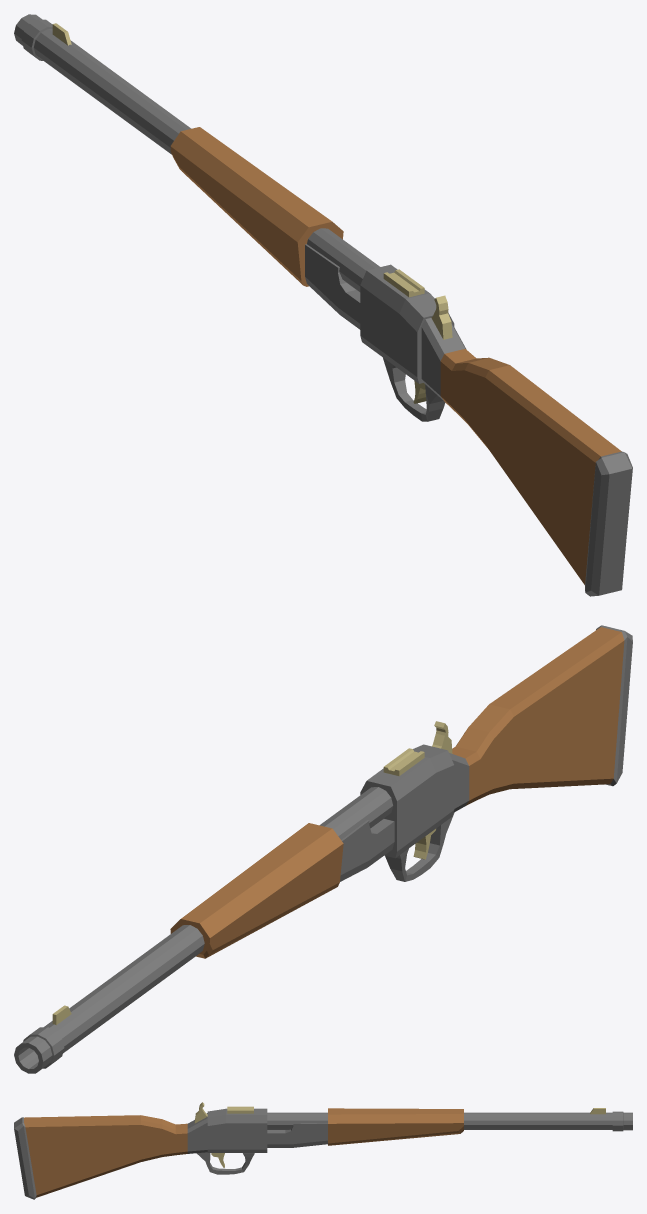
Rendered from Carabine-Shotgun-Long.fbx.
The picture shows the model from 3 angles, top to bottom: view 1: azimuth 30°, elevation 25°; view 2: azimuth 150°, elevation 25°; view 3: azimuth 270°, elevation 25°; orthographic projection. The views are drawn at different scales.
Visible parts, largest first — view 1: Shotgun_A.004; view 2: Shotgun_A.004; view 3: Shotgun_A.004.
Part boxes in pixels (x1,y1,x2,y2): Shotgun_A.004: (14, 14, 632, 596); Shotgun_A.004: (14, 625, 632, 1073); Shotgun_A.004: (14, 1102, 632, 1199).
Bounding box in the file's own units: 59.07 × 220 × 1319.
